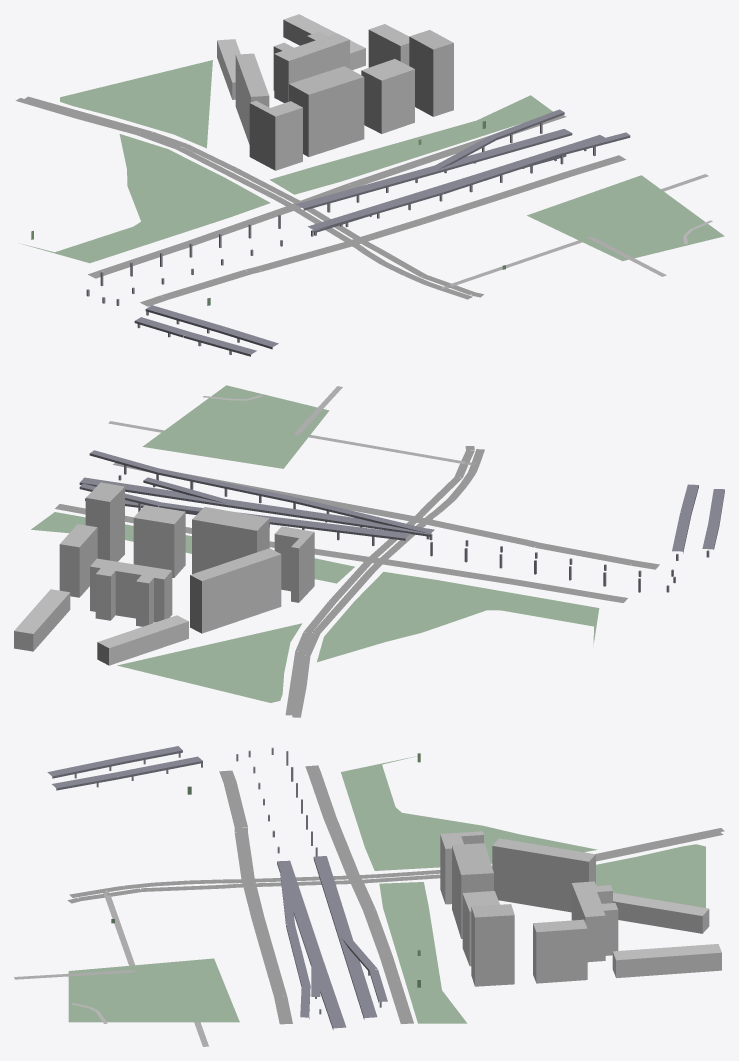
3 views of the same model, one above another, from view 1: azimuth 30°, elevation 25°; view 2: azimuth 150°, elevation 25°; view 3: azimuth 270°, elevation 25° (orthographic). The views are drawn at different scales.
Bounding box in the file's own units: 547 × 60.97 × 558.
